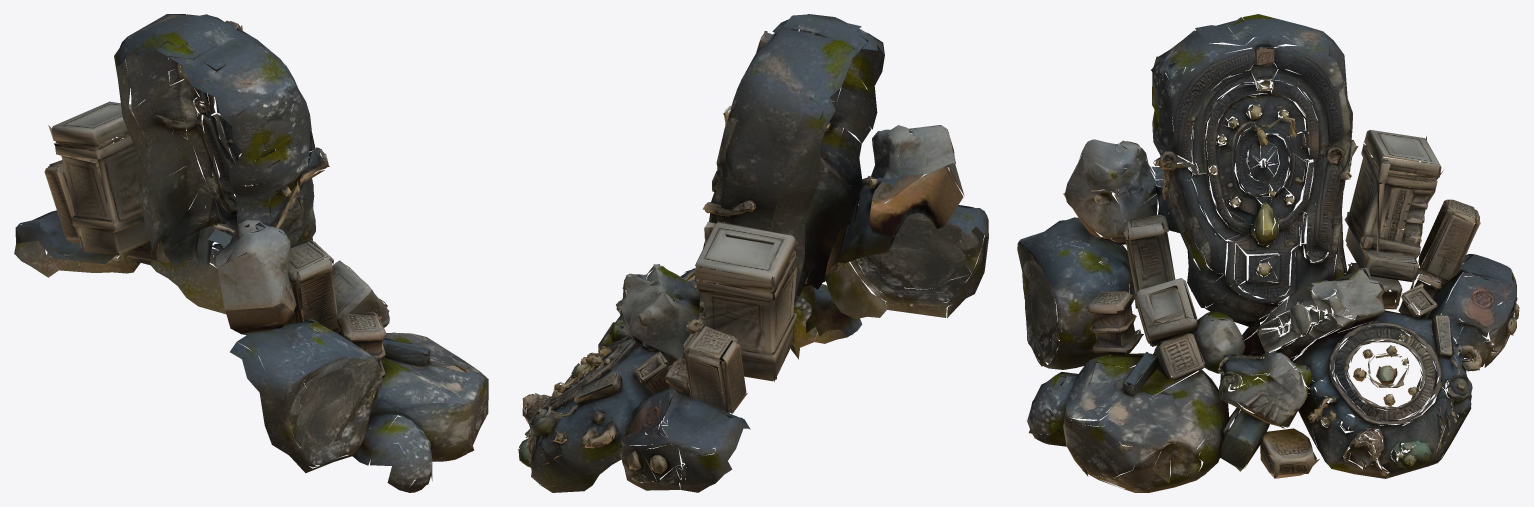
The model's file is jun_boulder_ruin_mix_c_LOD1.glb.
3 renders of one model, left to right at view 1: azimuth 30°, elevation 25°; view 2: azimuth 150°, elevation 25°; view 3: azimuth 270°, elevation 25°, orthographic. The views are drawn at different scales.
Visible parts, largest first — view 1: tripo_node_818d9c6d-30bf-4788-a4f3-a3156c601ce0; view 2: tripo_node_818d9c6d-30bf-4788-a4f3-a3156c601ce0; view 3: tripo_node_818d9c6d-30bf-4788-a4f3-a3156c601ce0.
Boxes of the visible parts, x1,y1,x2,y2 form: tripo_node_818d9c6d-30bf-4788-a4f3-a3156c601ce0: [14, 14, 488, 492]; tripo_node_818d9c6d-30bf-4788-a4f3-a3156c601ce0: [518, 14, 988, 492]; tripo_node_818d9c6d-30bf-4788-a4f3-a3156c601ce0: [1017, 14, 1519, 492].
Size of the model in its own units: 0.6036 by 0.8478 by 1.
Materials: 1 (1 with a texture image).
